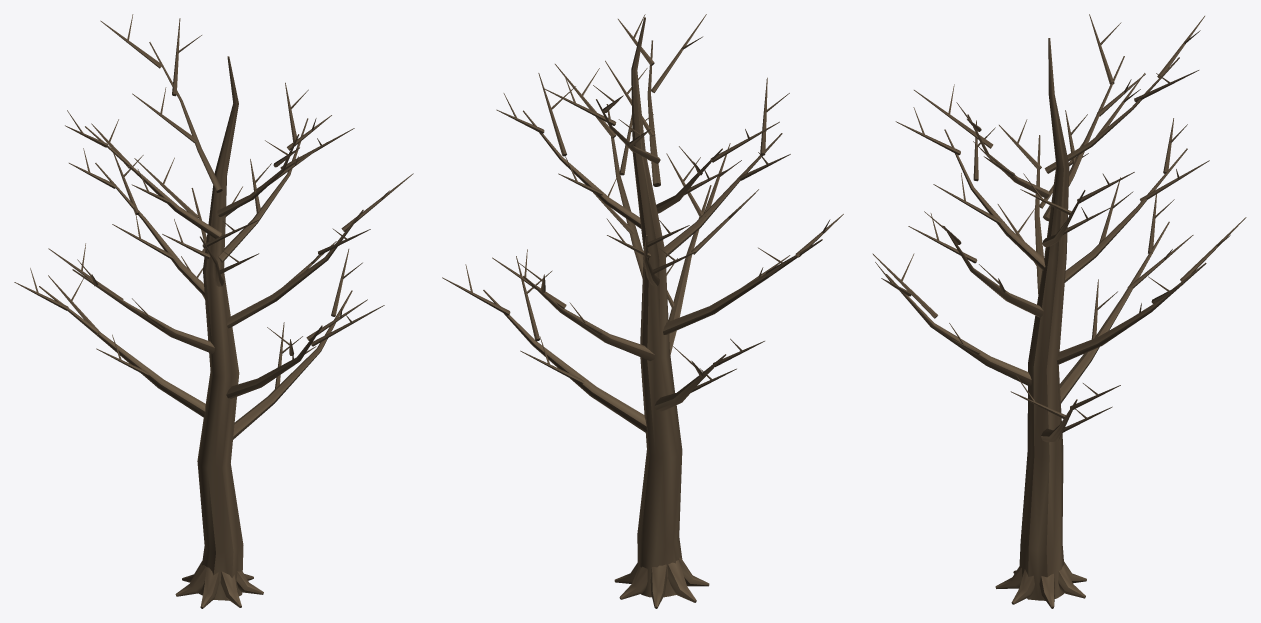
The model's file is tree_dead.glb.
3 views of the same model, side by side, from view 1: azimuth 30°, elevation 25°; view 2: azimuth 150°, elevation 25°; view 3: azimuth 270°, elevation 25° (orthographic). The views are drawn at different scales.
Visible parts, largest first — view 1: tree_dead_wood; view 2: tree_dead_wood; view 3: tree_dead_wood.
Boxes of the visible parts, x1,y1,x2,y2 form: tree_dead_wood: (14, 14, 413, 608); tree_dead_wood: (442, 14, 843, 608); tree_dead_wood: (872, 14, 1246, 608).
Size of the model in its own units: 3.19 by 5.1 by 3.09.
